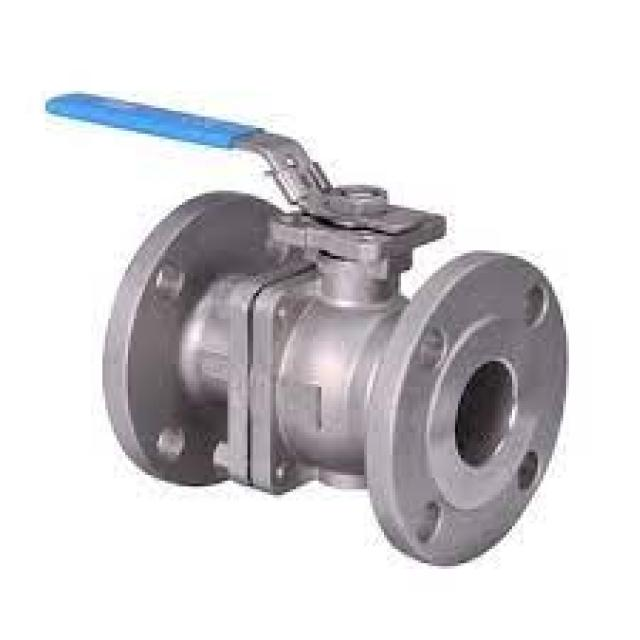Lever Handle Valve Threaded: (38, 73, 476, 284)
